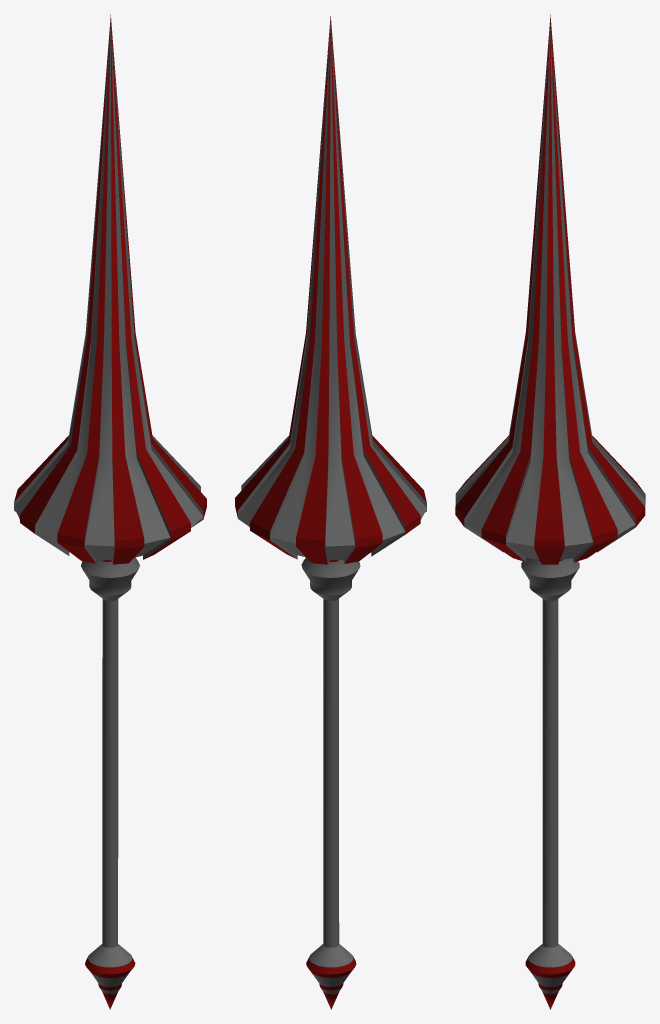
Rendered from kaileh_lance.glb.
The picture shows the model from 3 angles, left to right: view 1: azimuth 30°, elevation 25°; view 2: azimuth 150°, elevation 25°; view 3: azimuth 270°, elevation 25°; orthographic projection.
Parts seen in each view (by area): view 1: lance_Lance_LP_anisotropic1_0; view 2: lance_Lance_LP_anisotropic1_0; view 3: lance_Lance_LP_anisotropic1_0.
Part boxes in pixels (x1,y1,x2,y2): lance_Lance_LP_anisotropic1_0: [14, 14, 206, 1009]; lance_Lance_LP_anisotropic1_0: [235, 16, 426, 1009]; lance_Lance_LP_anisotropic1_0: [455, 14, 645, 1009].
Size of the model in its own units: 0.4164 by 2.4 by 0.4155.
